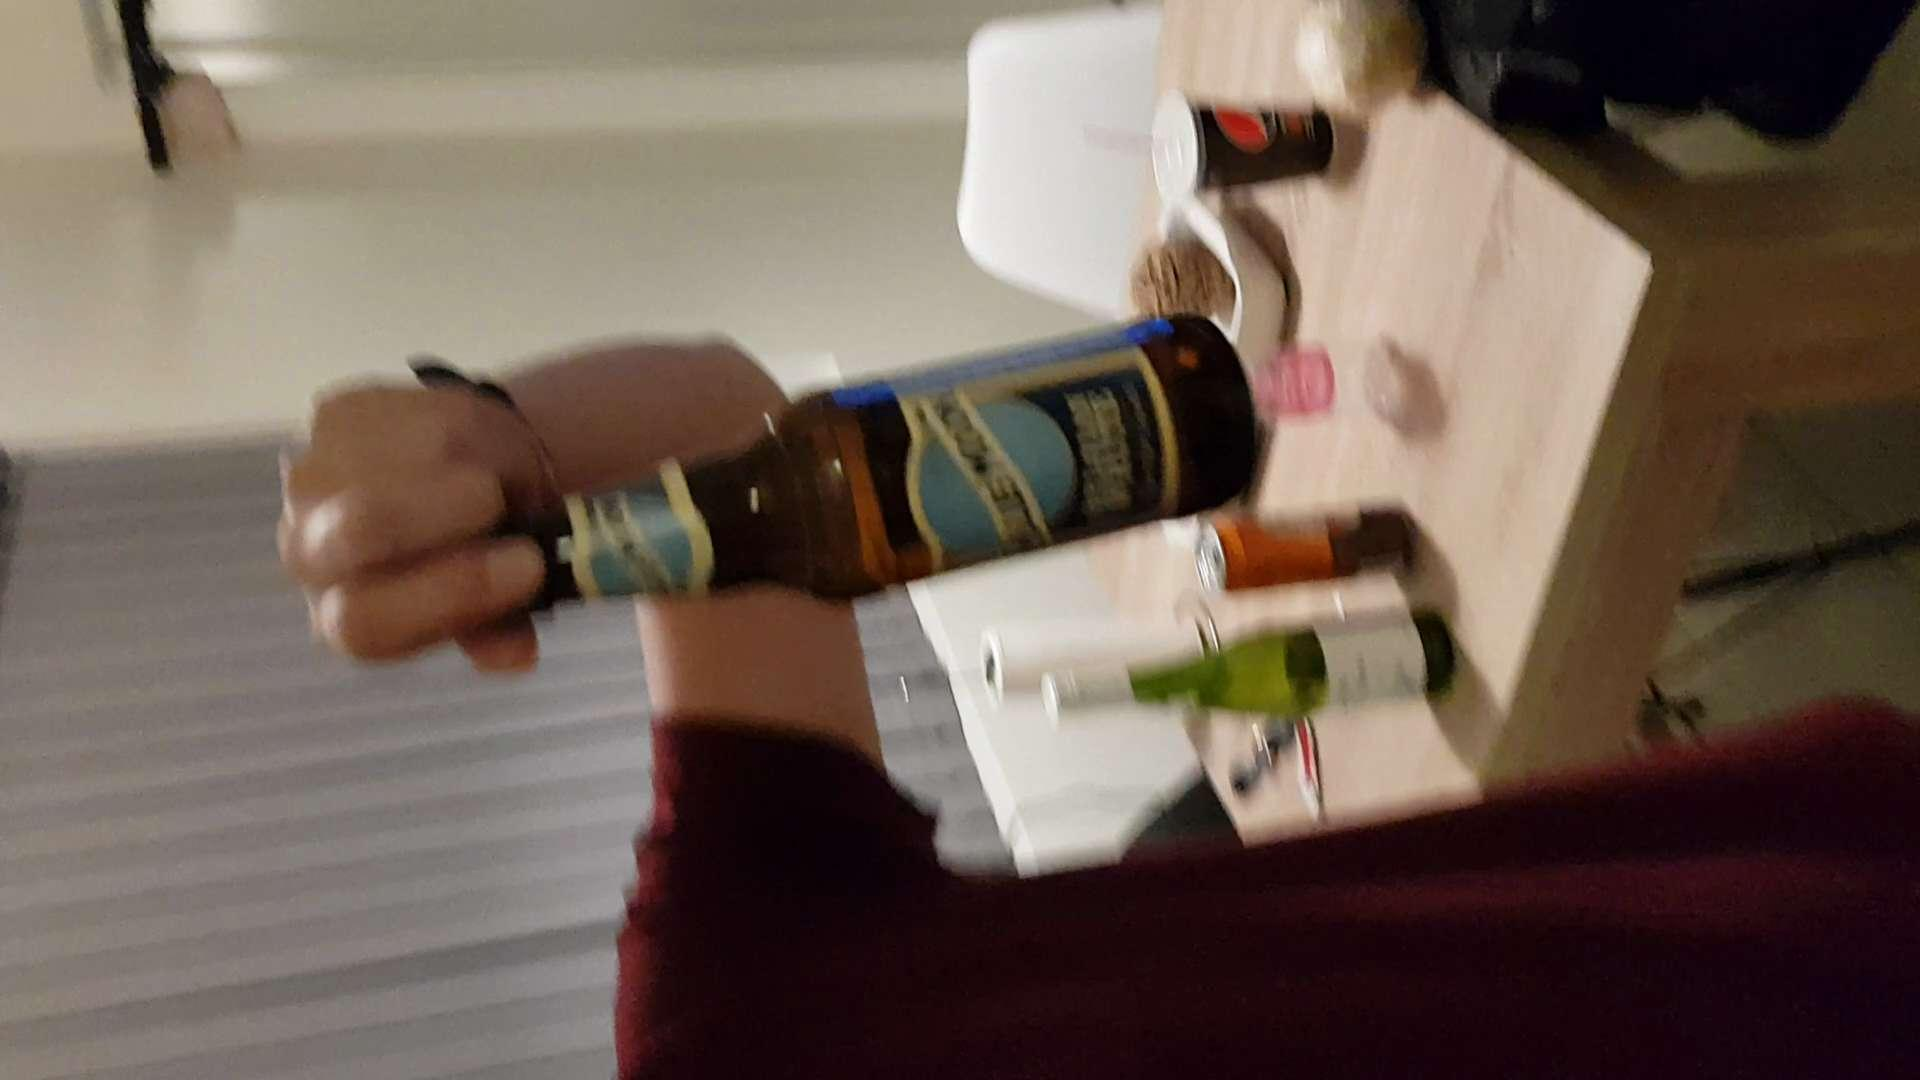Bottle: (498, 310, 1255, 621), (1051, 605, 1464, 713)
